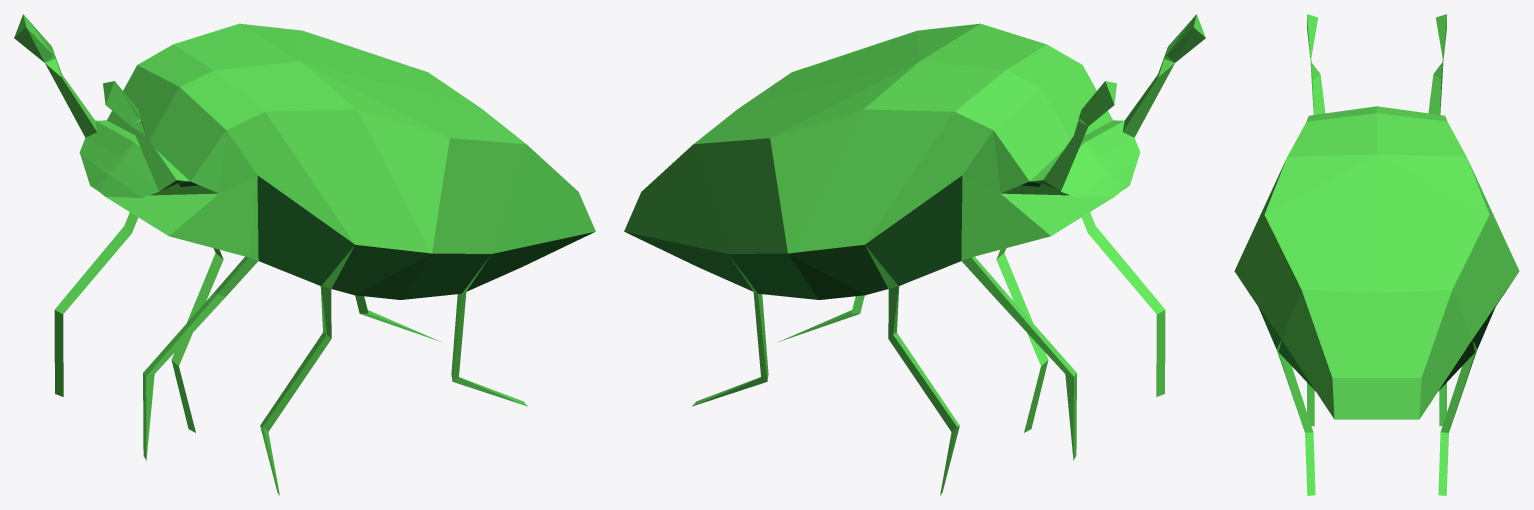
The model's file is Chinche.glb.
The picture shows the model from 3 angles, left to right: view 1: azimuth 30°, elevation 25°; view 2: azimuth 150°, elevation 25°; view 3: azimuth 270°, elevation 25°; orthographic projection. The views are drawn at different scales.
Visible parts, largest first — view 1: Plane; view 2: Plane; view 3: Plane.
Boxes of the visible parts, bbox=[...] form: Plane: bbox=[14, 14, 595, 495]; Plane: bbox=[624, 14, 1205, 495]; Plane: bbox=[1234, 14, 1519, 495].
Bounding box in the file's own units: 3.09 × 2.65 × 1.96.
